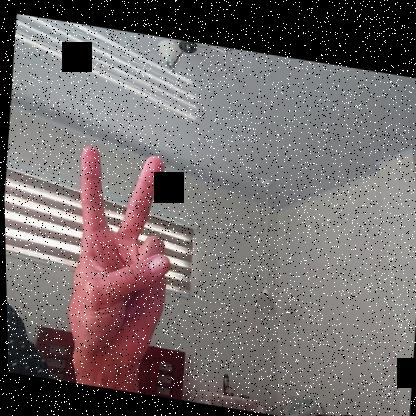V: (60, 129, 181, 381)
